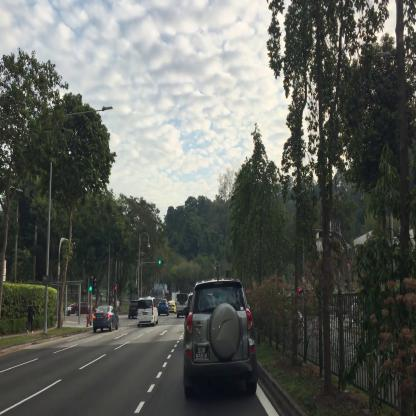green_traffic_light: (90, 277, 92, 290), (158, 260, 164, 263)
